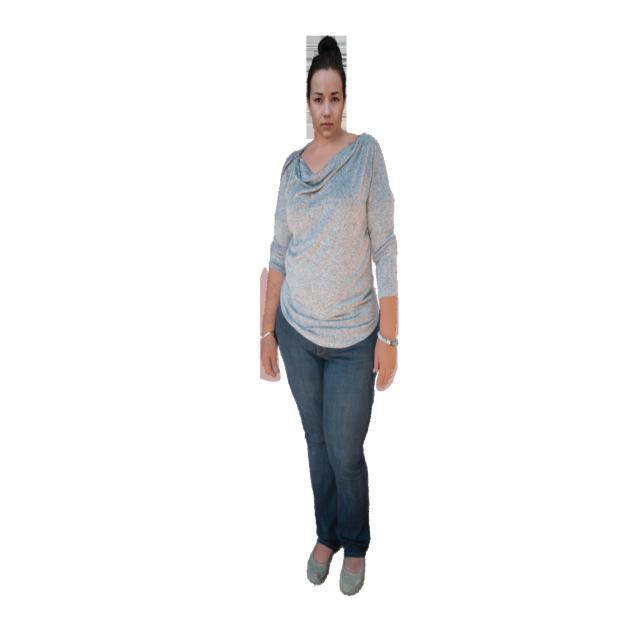jovem: (257, 39, 407, 606)
